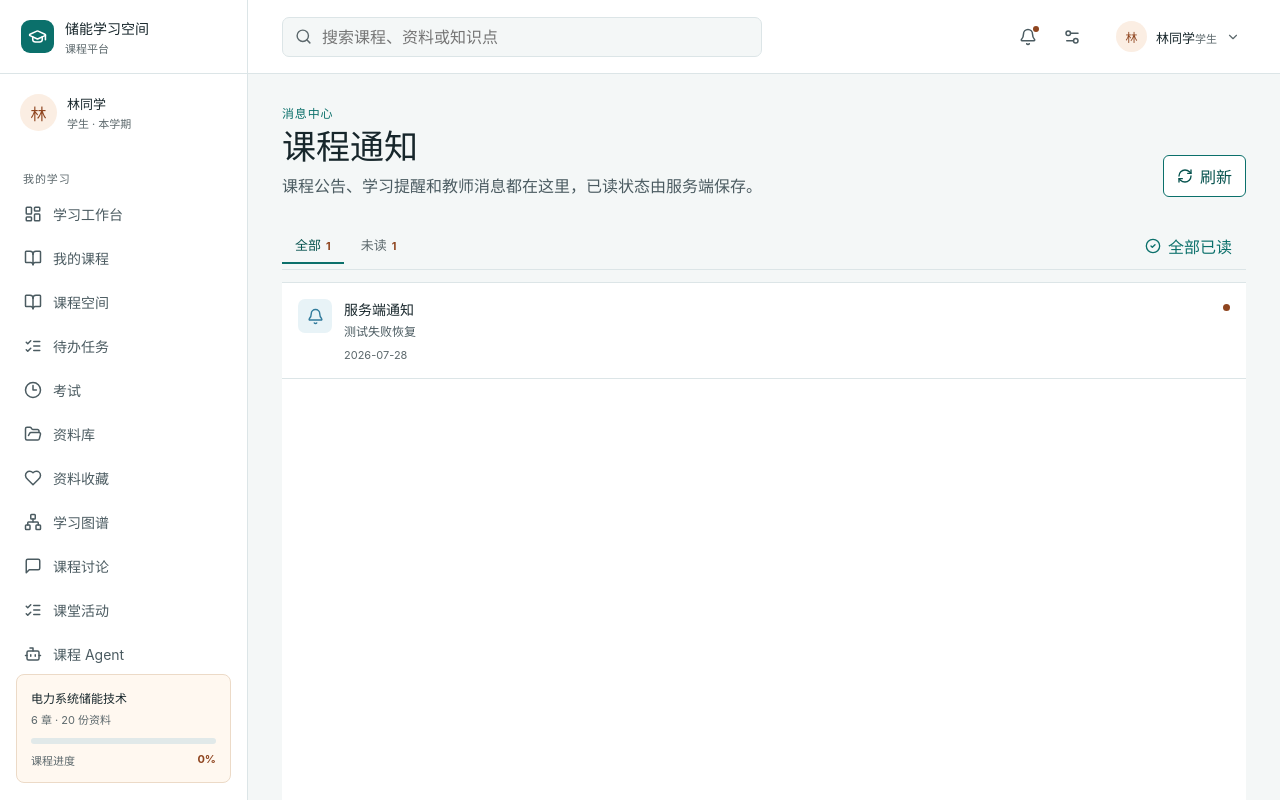
learning platform component › component preserves unread state when the server rejects a read write
Click the button with aria-label "服务端通知，标为已读".
click(315, 316)  # box x1=282 y1=283 x2=1246 y2=379
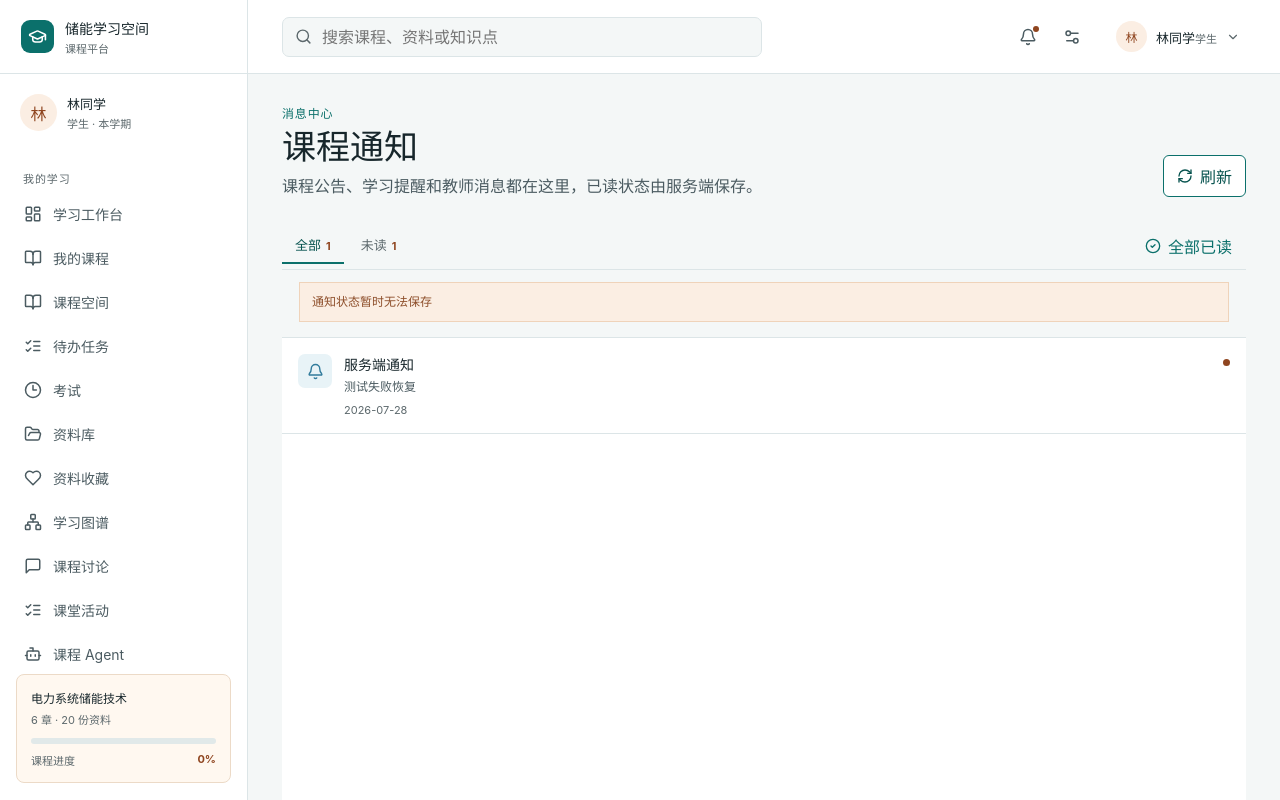
Check: the button with aria-label "服务端通知，标为已读" is enabled, box x1=282 y1=338 x2=1246 y2=434
Check: the text "通知状态暂时无法保存" is shown, box x1=299 y1=282 x2=1229 y2=322
